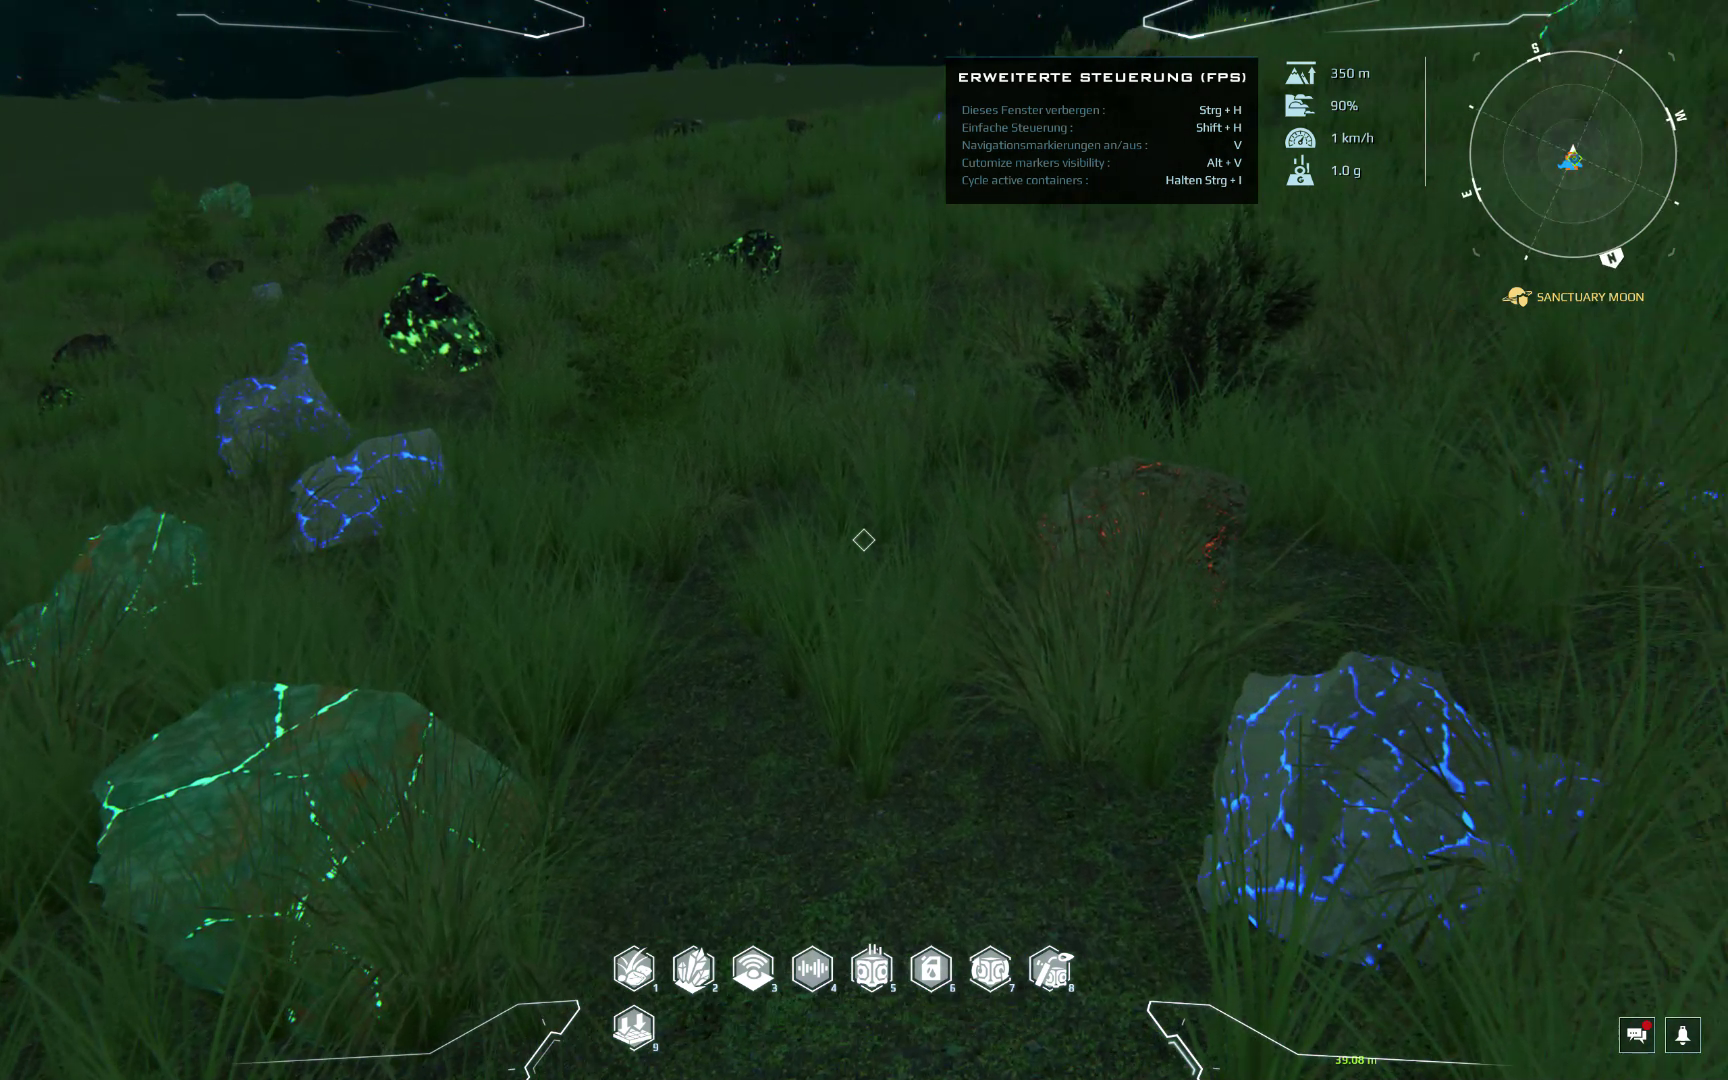Ore: (85, 674, 551, 1051), (1188, 645, 1617, 980), (5, 500, 215, 691), (1020, 445, 1250, 615), (1509, 439, 1728, 570), (272, 421, 454, 560), (209, 338, 350, 483), (374, 264, 506, 379), (682, 220, 789, 292), (340, 220, 401, 277), (47, 324, 118, 368), (651, 111, 713, 146), (30, 379, 80, 416), (203, 253, 248, 287), (318, 209, 362, 243), (775, 116, 821, 138)
